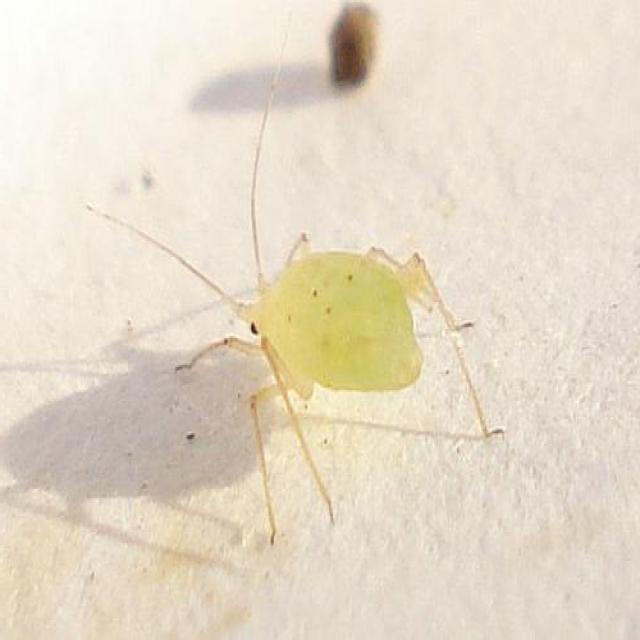aphid: (86, 91, 486, 554)
